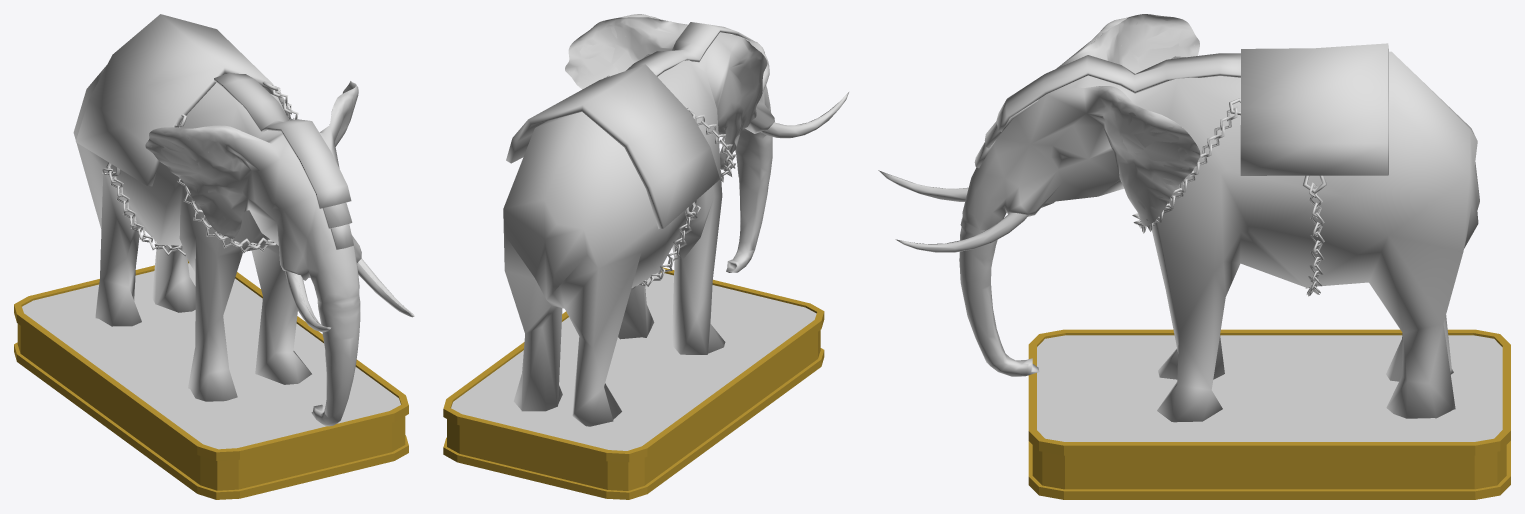
Rendered from Elephant Statue.fbx.
The picture shows the model from 3 angles, left to right: view 1: azimuth 30°, elevation 25°; view 2: azimuth 150°, elevation 25°; view 3: azimuth 270°, elevation 25°; orthographic projection. The views are drawn at different scales.
Visible parts, largest first — view 1: Body, Cube.001; view 2: Body, Cube.001; view 3: Body, Cube.001.
Boxes of the visible parts, <box> form: Body: <box>73,14,414,426</box>; Cube.001: <box>14,260,408,499</box>; Body: <box>503,14,848,426</box>; Cube.001: <box>443,267,824,499</box>; Body: <box>878,14,1479,422</box>; Cube.001: <box>1028,329,1510,499</box>.
Bounding box in the file's own units: 507 × 813 × 1168.
